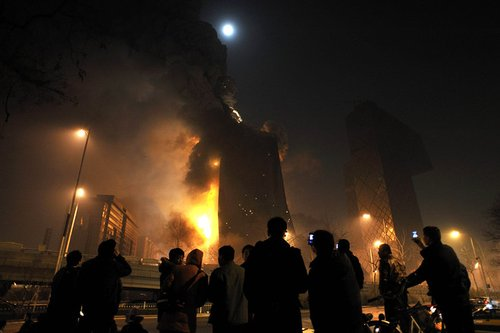fire: (185, 179, 238, 257)
smoke: (94, 18, 245, 170)
